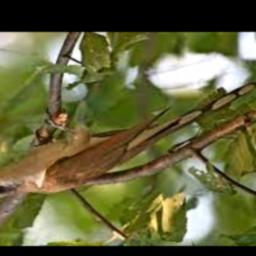Cuckoo: (0, 82, 256, 197)
